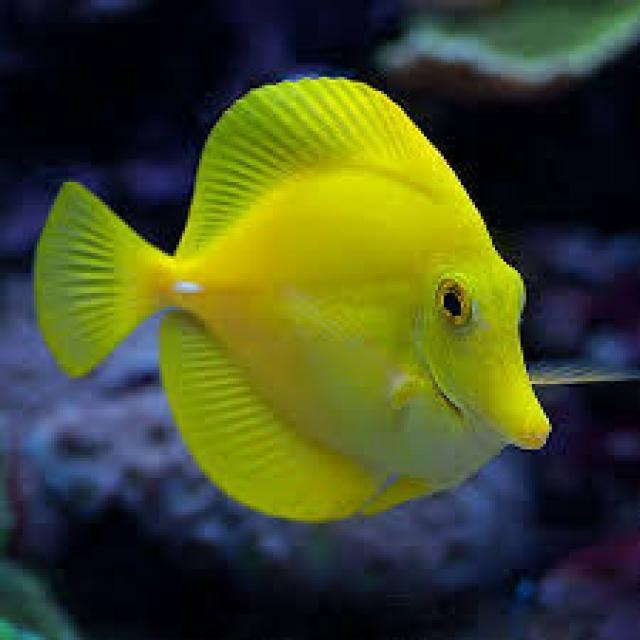TangFish: (33, 75, 551, 521)
